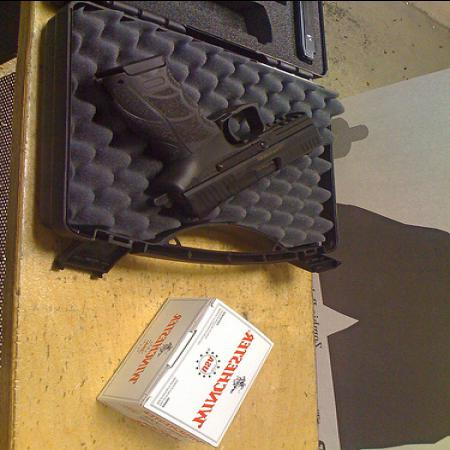Pistol: (94, 53, 322, 219)
